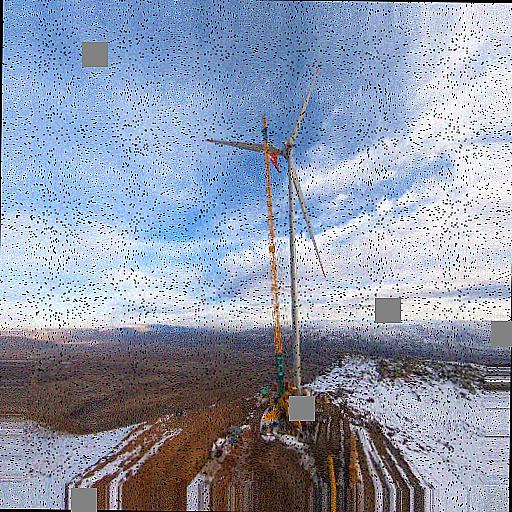wind turbine: (205, 65, 329, 405)
